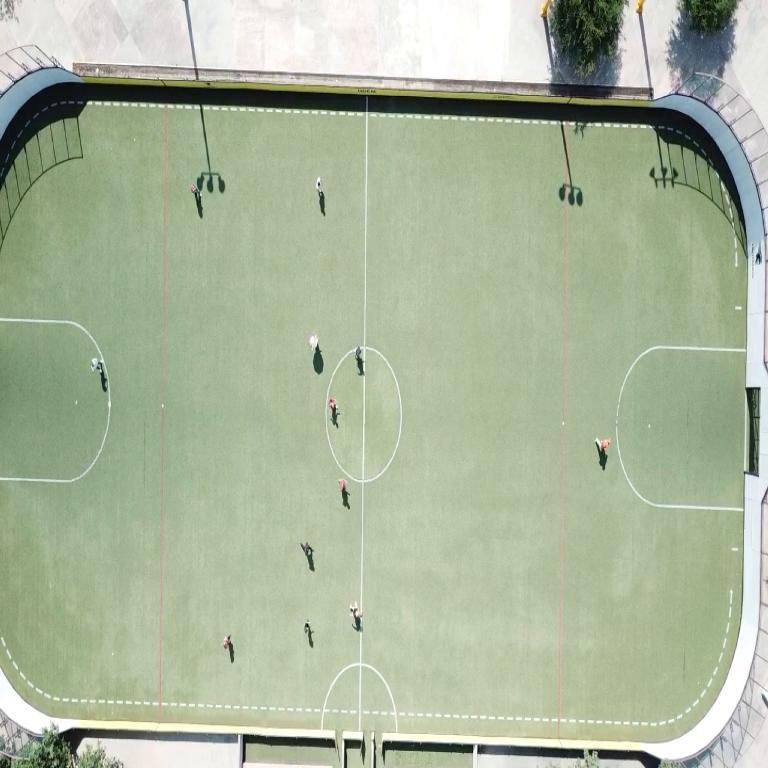AC: (614, 347, 745, 510), (0, 389, 111, 483), (0, 318, 100, 351)
MC: (363, 97, 367, 343), (359, 483, 364, 608), (361, 382, 364, 477), (358, 666, 362, 725), (363, 383, 365, 476), (359, 638, 362, 663)
P: (350, 602, 362, 630), (596, 438, 610, 452), (328, 398, 336, 422), (301, 542, 312, 557), (309, 333, 318, 351), (92, 358, 103, 372), (190, 184, 199, 200), (338, 479, 345, 494), (224, 634, 231, 648), (316, 177, 321, 193), (356, 347, 360, 358), (304, 620, 308, 631)
